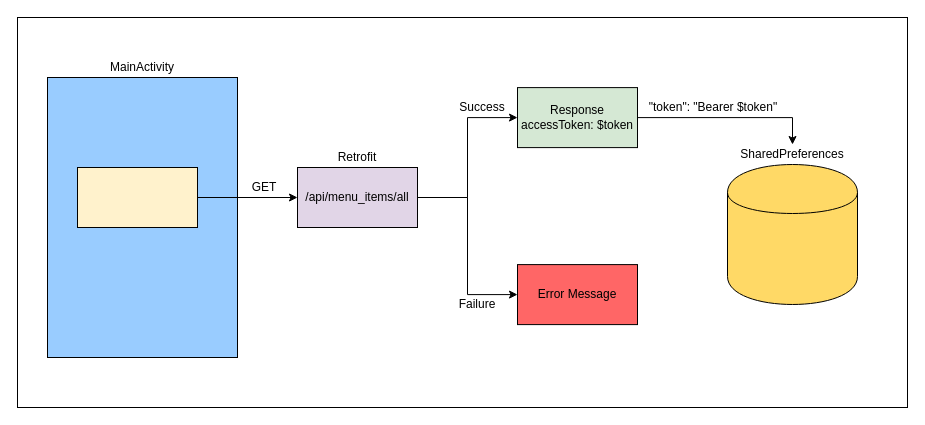
The diagram is 925 pixels wide and 425 high, and some of its shapes have lost their labels. The centre of each missing label's shape, as x and y in pixels:
"onCreate" goes at point 137,197.
"prefs" goes at point 792,234.
